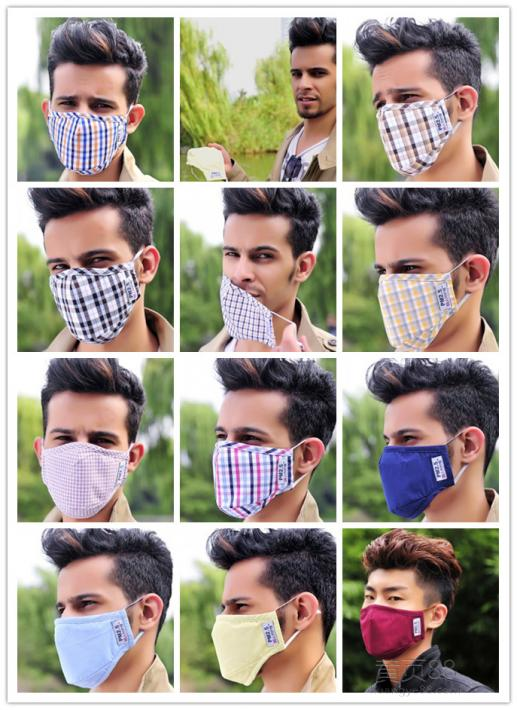face: (289, 44, 335, 118)
face_mask: (43, 207, 135, 349), (375, 215, 460, 351), (43, 394, 126, 517), (211, 394, 291, 520), (54, 558, 131, 686), (378, 395, 455, 520), (374, 57, 449, 181), (214, 558, 287, 679), (50, 62, 125, 174), (221, 212, 291, 320), (362, 561, 424, 656)
